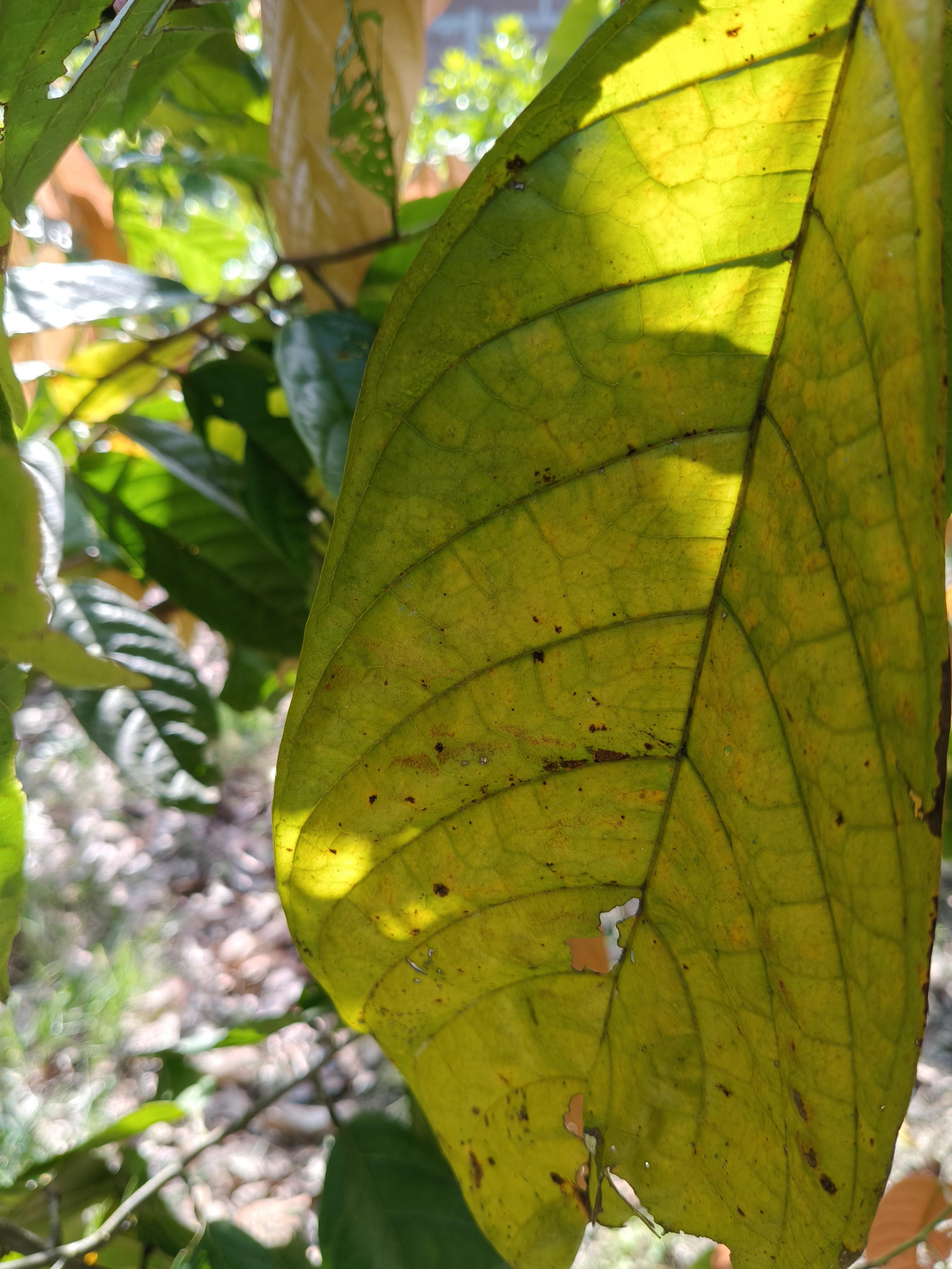deficiencia_potasio: (267, 0, 952, 1269)
